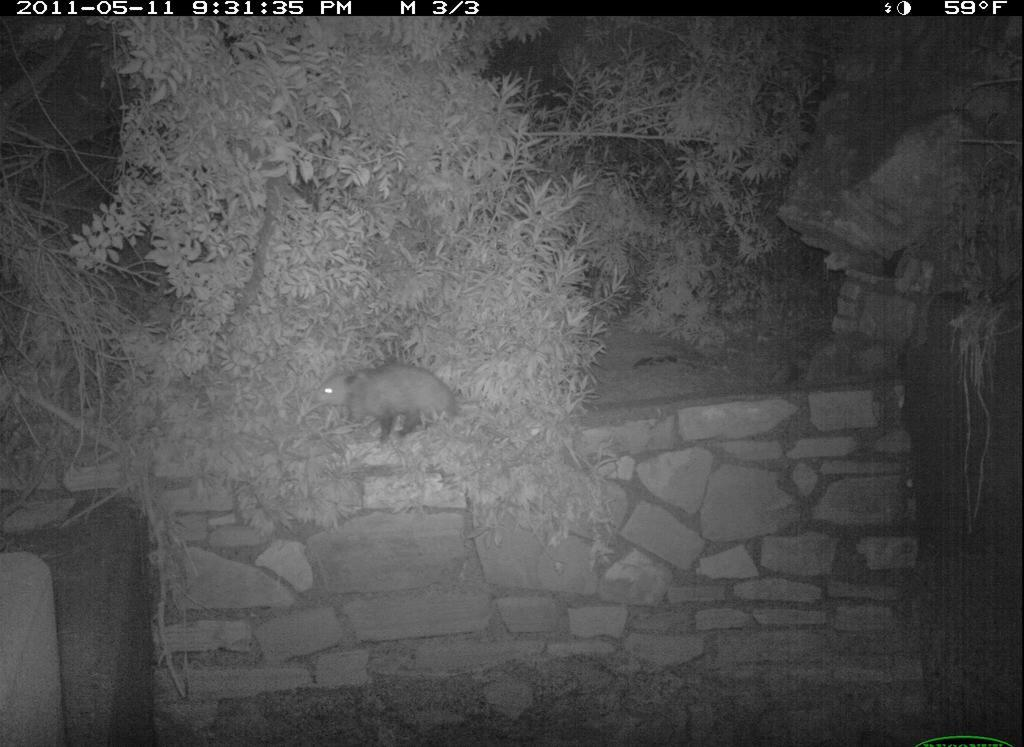opossum: (312, 358, 482, 449)
